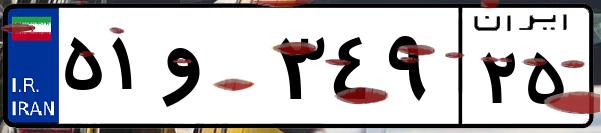1: (110, 28, 158, 98)
2: (475, 38, 525, 113)
3: (270, 28, 330, 110)
4: (330, 28, 385, 110)
5: (57, 26, 110, 100), (525, 38, 570, 115)
9: (385, 28, 445, 110)
و: (158, 20, 270, 120)
